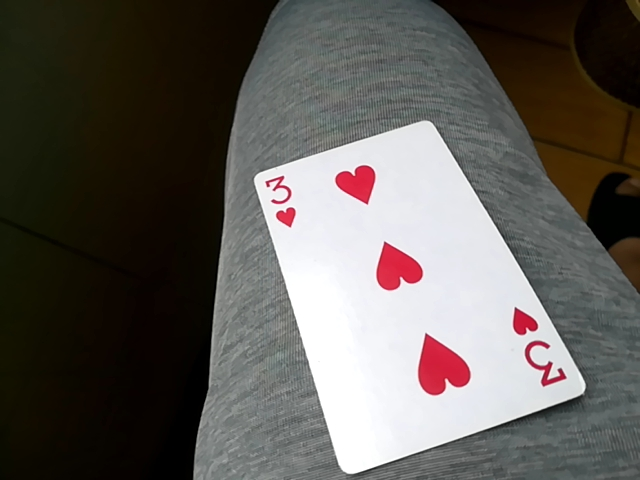hx 3: (243, 118, 578, 473)
